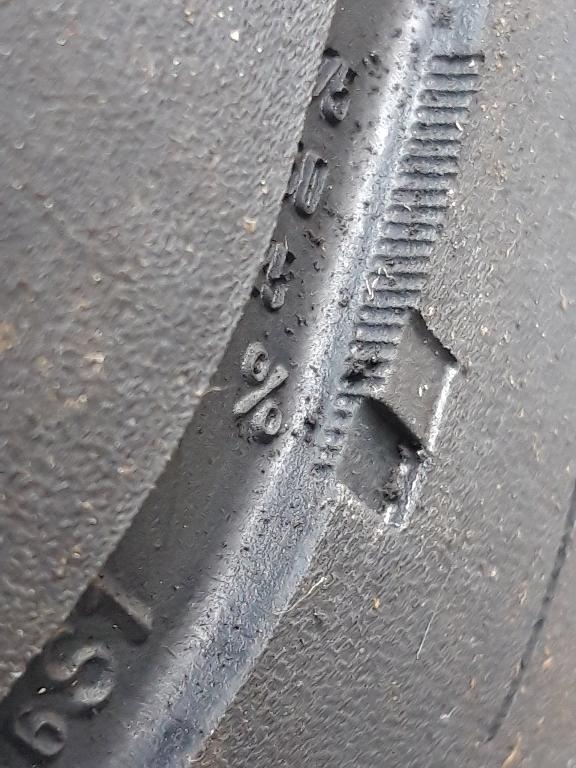temoin:25: (292, 298, 474, 544)
